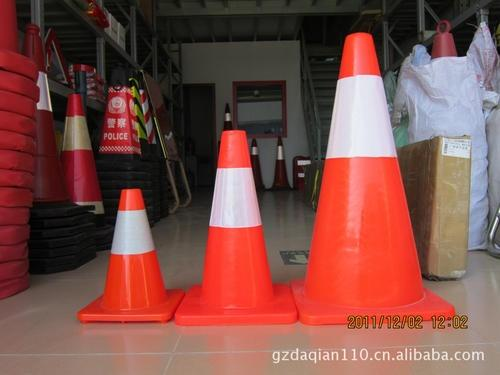cone_barrel: (293, 34, 432, 332), (184, 132, 283, 322), (93, 186, 169, 318), (55, 96, 104, 234), (95, 65, 146, 161), (428, 19, 457, 62), (268, 138, 290, 189), (249, 138, 261, 186)
